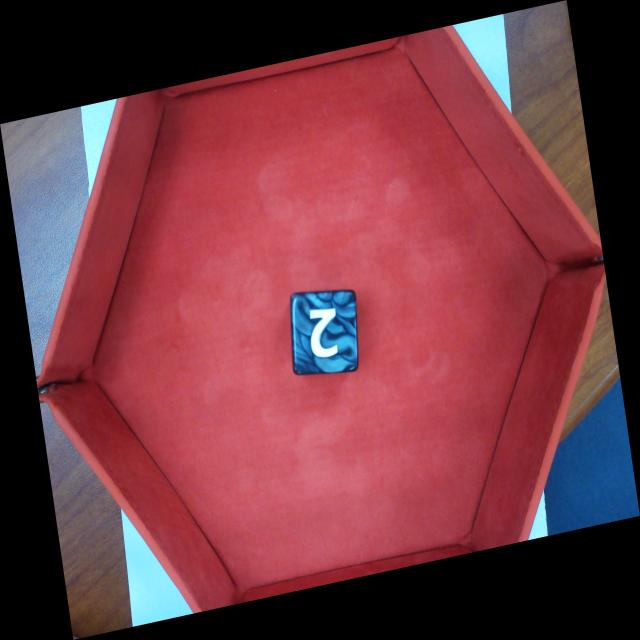dice: (294, 290, 360, 372)
